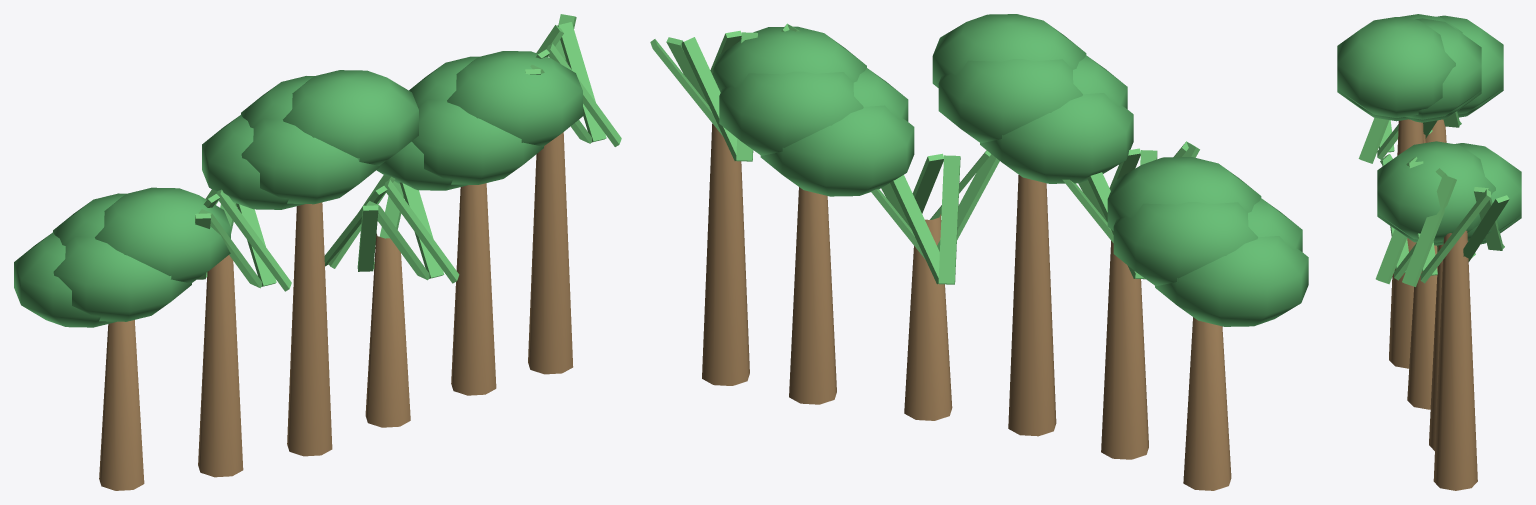
File: tree_cluster_bg.glb
3 views of the same model, side by side, from view 1: azimuth 30°, elevation 25°; view 2: azimuth 150°, elevation 25°; view 3: azimuth 270°, elevation 25° (orthographic). The views are drawn at different scales.
Parts seen in each view (by area): view 1: tree_cluster_bg; view 2: tree_cluster_bg; view 3: tree_cluster_bg.
Boxes of the visible parts, x1=… form: tree_cluster_bg: x1=14, y1=14, x2=621, y2=490; tree_cluster_bg: x1=650, y1=14, x2=1308, y2=490; tree_cluster_bg: x1=1337, y1=14, x2=1521, y2=490.
Bounding box in the file's own units: 6.62 × 3.96 × 1.92.
